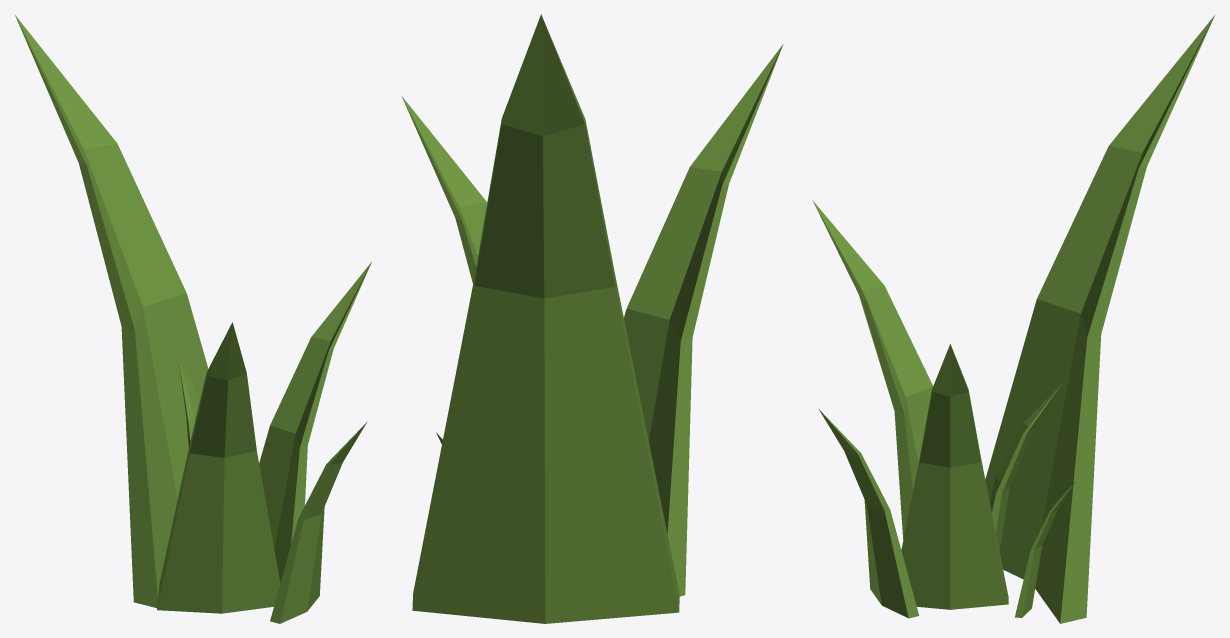
File: grass.fbx
3 views of the same model, side by side, from view 1: azimuth 30°, elevation 25°; view 2: azimuth 150°, elevation 25°; view 3: azimuth 270°, elevation 25° (orthographic). The views are drawn at different scales.
Visible parts, largest first — view 1: rock_2; view 2: rock_2; view 3: rock_2.
Boxes of the visible parts, <box> form: rock_2: <box>15,15,371,623</box>; rock_2: <box>401,14,783,623</box>; rock_2: <box>812,15,1214,623</box>.
Size of the model in its own units: 44.03 by 93.83 by 65.21.
